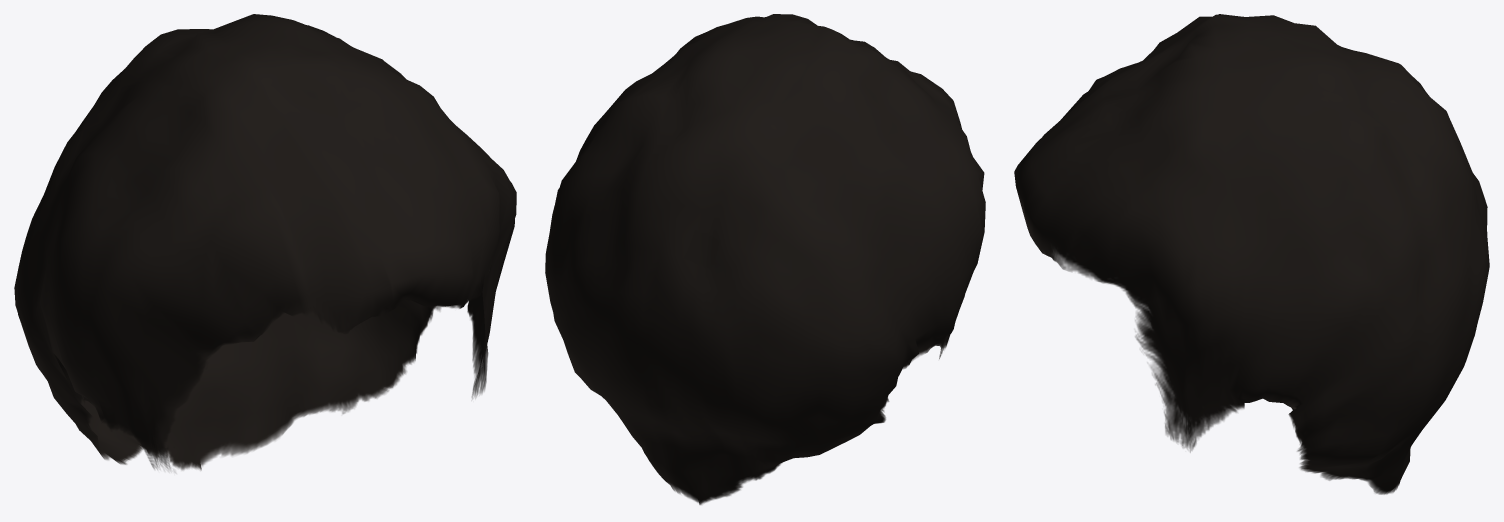
Rendered from hair_slick.glb.
The picture shows the model from 3 angles, left to right: view 1: azimuth 30°, elevation 25°; view 2: azimuth 150°, elevation 25°; view 3: azimuth 270°, elevation 25°; orthographic projection. The views are drawn at different scales.
Parts seen in each view (by area): view 1: hair_slick; view 2: hair_slick; view 3: hair_slick.
Boxes of the visible parts, x1,y1,x2,y2 form: hair_slick: [14, 14, 516, 472]; hair_slick: [545, 14, 985, 504]; hair_slick: [1014, 14, 1489, 494].
Bounding box in the file's own units: 0.2181 × 0.2423 × 0.2287.
1 material, 1 textured.
